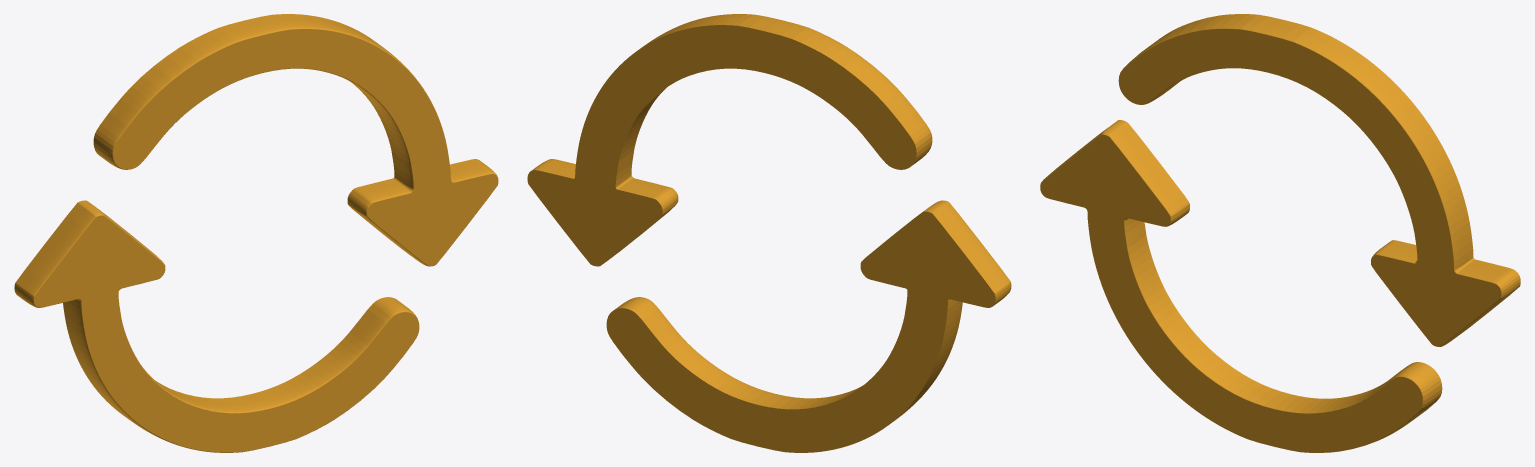
Rendered from arrows.obj.
The picture shows the model from 3 angles, left to right: view 1: azimuth 30°, elevation 25°; view 2: azimuth 150°, elevation 25°; view 3: azimuth 330°, elevation 25°; orthographic projection.
Parts seen in each view (by area): view 1: Object.1, Object.2; view 2: Object.2, Object.1; view 3: Object.1, Object.2.
Boxes of the visible parts, x1,y1,x2,y2 form: Object.1: [93, 14, 498, 266]; Object.2: [14, 200, 419, 452]; Object.2: [606, 200, 1011, 452]; Object.1: [527, 14, 932, 266]; Object.1: [1118, 14, 1520, 346]; Object.2: [1040, 120, 1442, 452].
Bounding box in the file's own units: 230 × 196 × 15.
